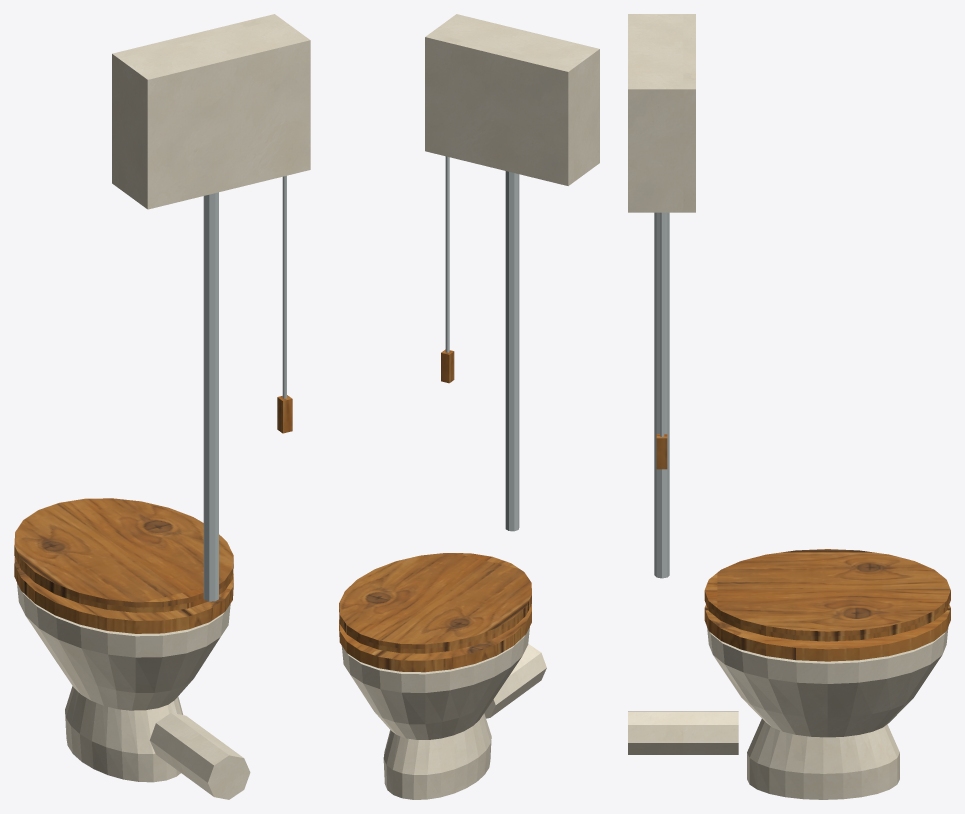
File: bath-toilet-high-cistern.gltf
3 renders of one model, left to right at view 1: azimuth 30°, elevation 25°; view 2: azimuth 150°, elevation 25°; view 3: azimuth 270°, elevation 25°, orthographic. The views are drawn at different scales.
Visible parts, largest first — view 1: fixture-ceramic, lid-timber, fixture-metal, fittings-ceramic, seat-timber, fixture-timber; view 2: fixture-ceramic, lid-timber, fixture-metal, seat-timber, fittings-ceramic; view 3: fixture-ceramic, lid-timber, fixture-metal, seat-timber, fittings-ceramic.
Part boxes in pixels (x1=…): fixture-ceramic: x1=17, y1=14, x2=310, y2=782; lid-timber: x1=14, y1=498, x2=233, y2=612; fixture-metal: x1=203, y1=175, x2=286, y2=601; fittings-ceramic: x1=149, y1=713, x2=250, y2=799; seat-timber: x1=14, y1=557, x2=233, y2=633; fixture-timber: x1=277, y1=395, x2=292, y2=433; fixture-ceramic: x1=341, y1=14, x2=599, y2=799; lid-timber: x1=339, y1=553, x2=531, y2=653; fixture-metal: x1=445, y1=156, x2=519, y2=531; seat-timber: x1=339, y1=605, x2=531, y2=672; fittings-ceramic: x1=484, y1=644, x2=546, y2=718; fixture-ceramic: x1=628, y1=14, x2=948, y2=799; lid-timber: x1=704, y1=549, x2=950, y2=641; fixture-metal: x1=654, y1=212, x2=669, y2=578; seat-timber: x1=704, y1=604, x2=950, y2=661; fittings-ceramic: x1=628, y1=711, x2=738, y2=754.
Bounding box in the file's own units: 0.46 × 1.89 × 0.76.
4 materials, 2 textured.
